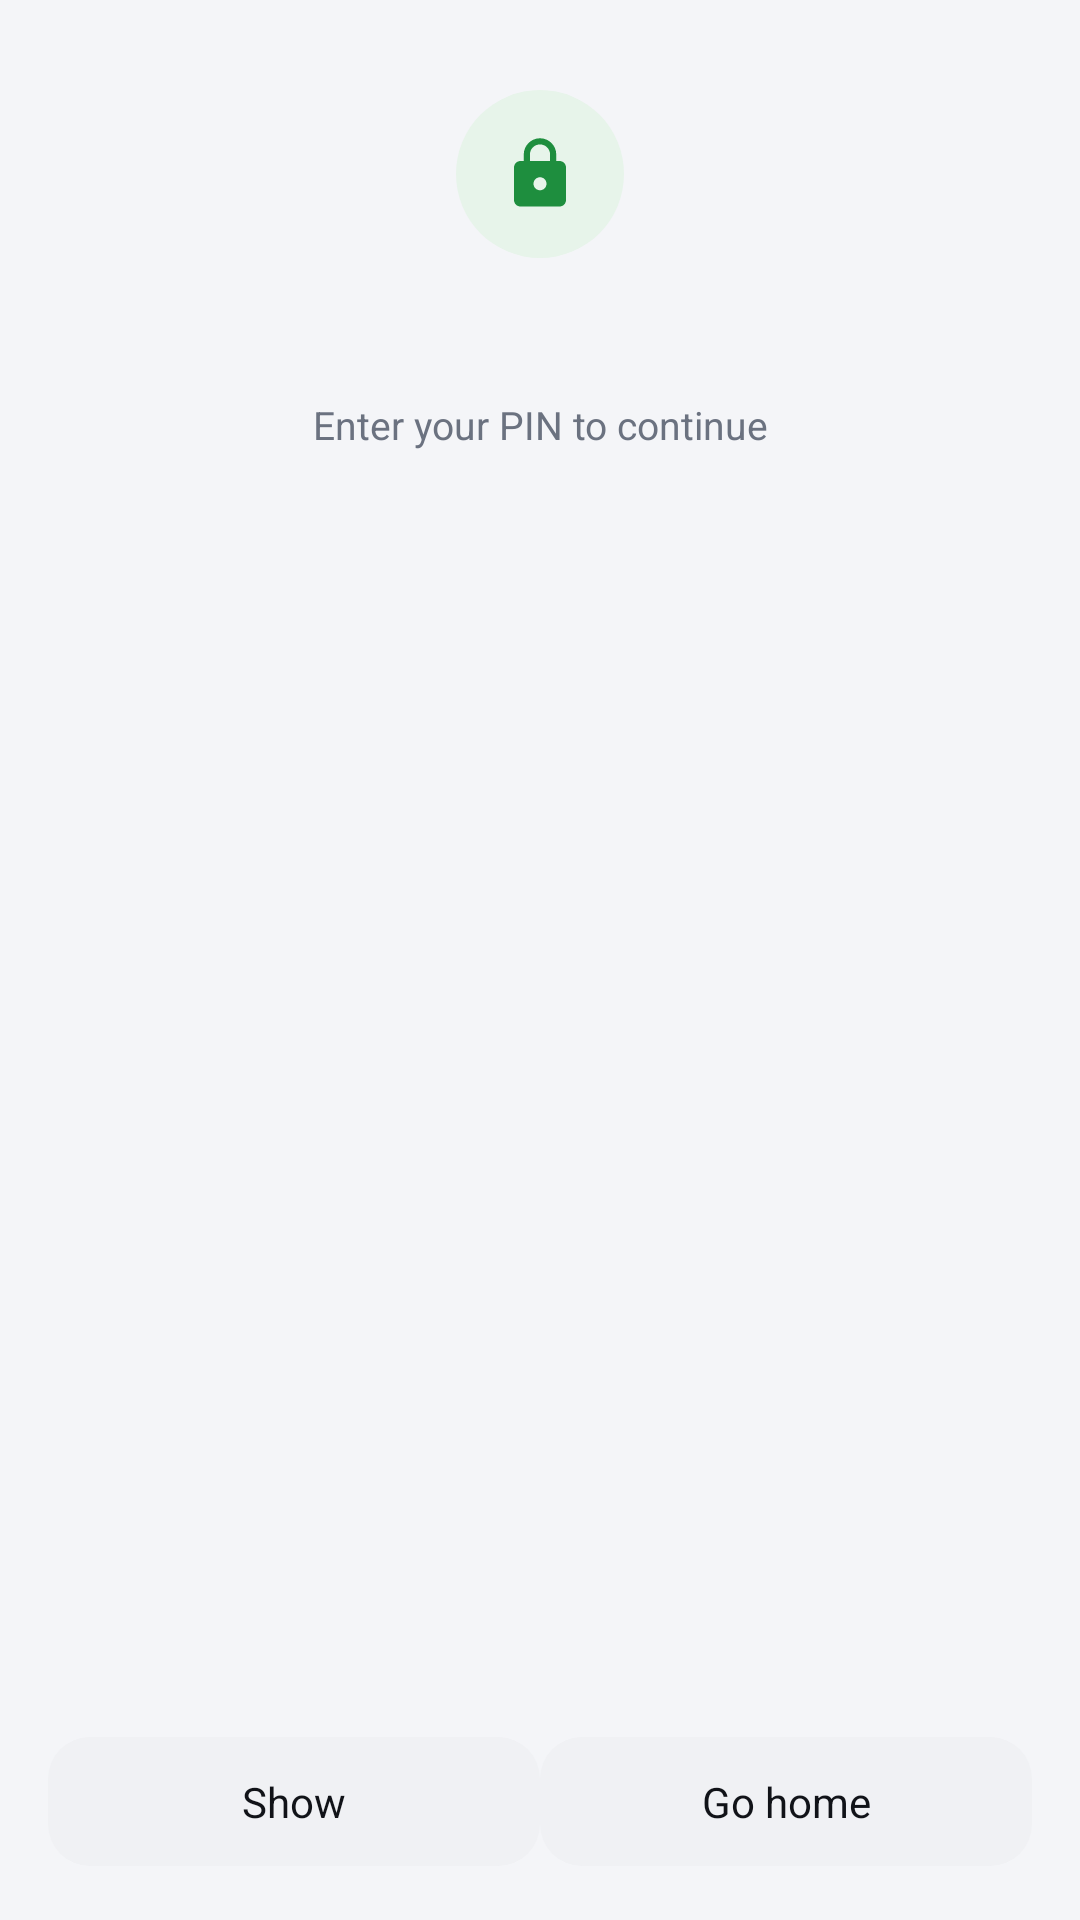

Where to tap for icons on this 1080*1920 app screen, as [x,y]:
lock: [540,172]
